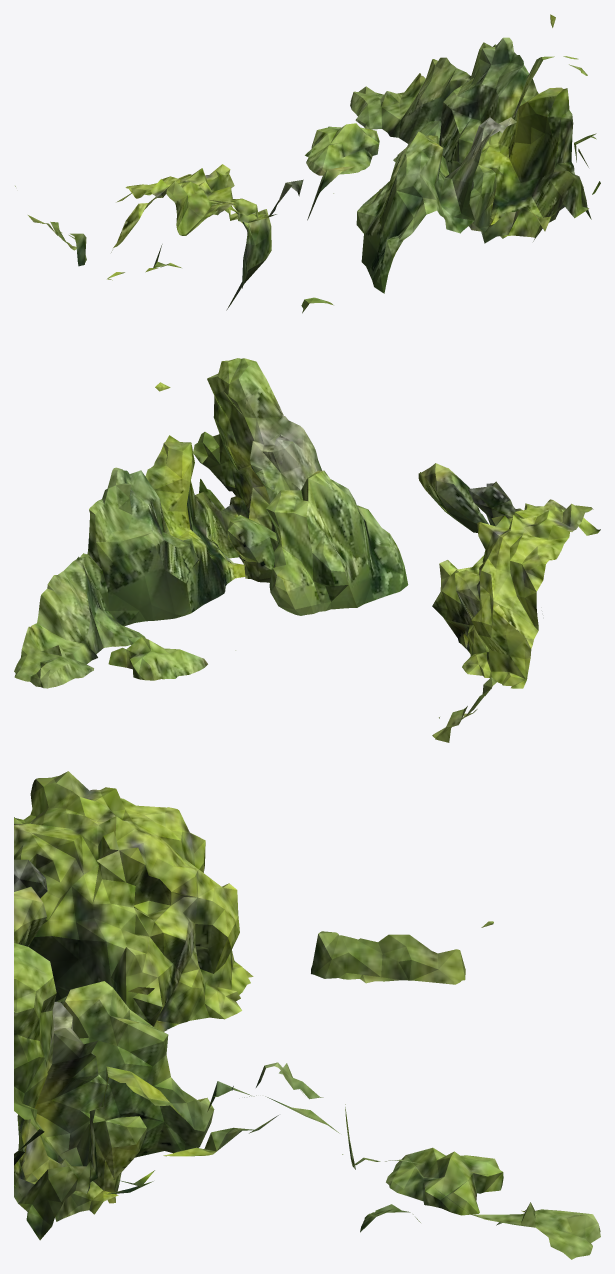
3 renders of one model, top to bottom at view 1: azimuth 30°, elevation 25°; view 2: azimuth 150°, elevation 25°; view 3: azimuth 270°, elevation 25°, orthographic. The views are drawn at different scales.
Bounding box in the file's own units: 26.11 × 11.65 × 22.32.
2 materials, 2 textured.
